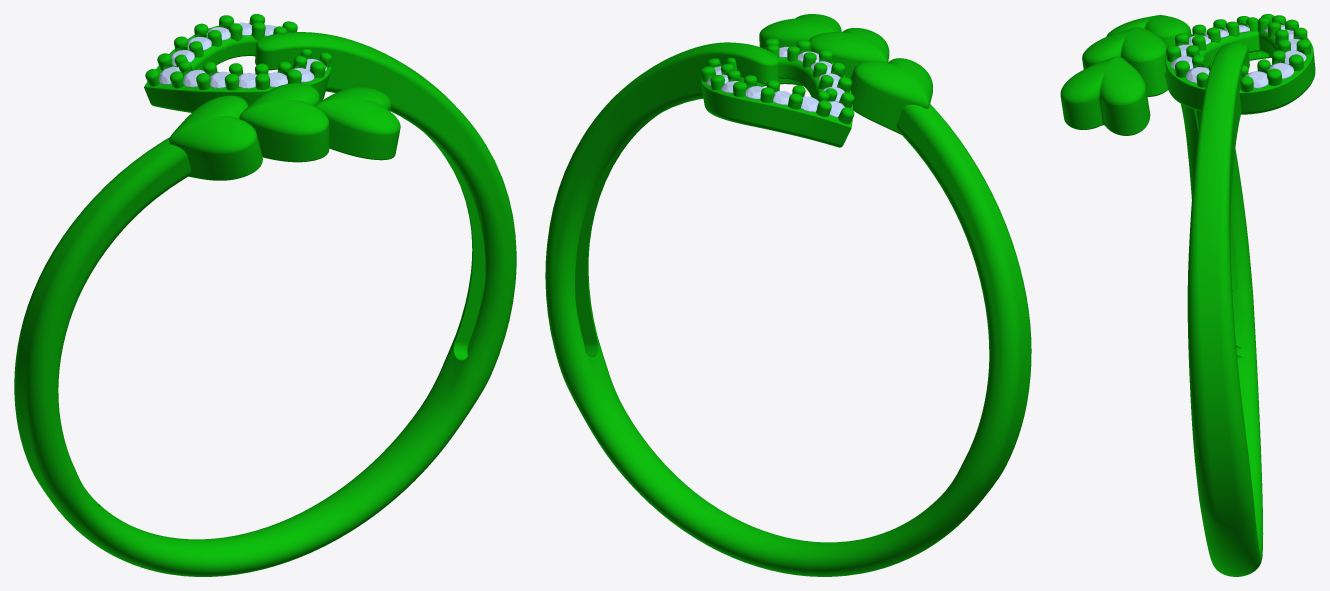
3 renders of one model, left to right at view 1: azimuth 30°, elevation 25°; view 2: azimuth 150°, elevation 25°; view 3: azimuth 270°, elevation 25°, orthographic. The views are drawn at different scales.
Visible parts, largest first — view 1: a.3dm; view 2: a.3dm; view 3: a.3dm.
Part boxes in pixels (left/top/right/bottom): a.3dm: left=14, top=14, right=516, bottom=576; a.3dm: left=545, top=14, right=1031, bottom=576; a.3dm: left=1060, top=14, right=1315, bottom=576.
Size of the model in its own units: 2.65 by 2.74 by 1.23.
